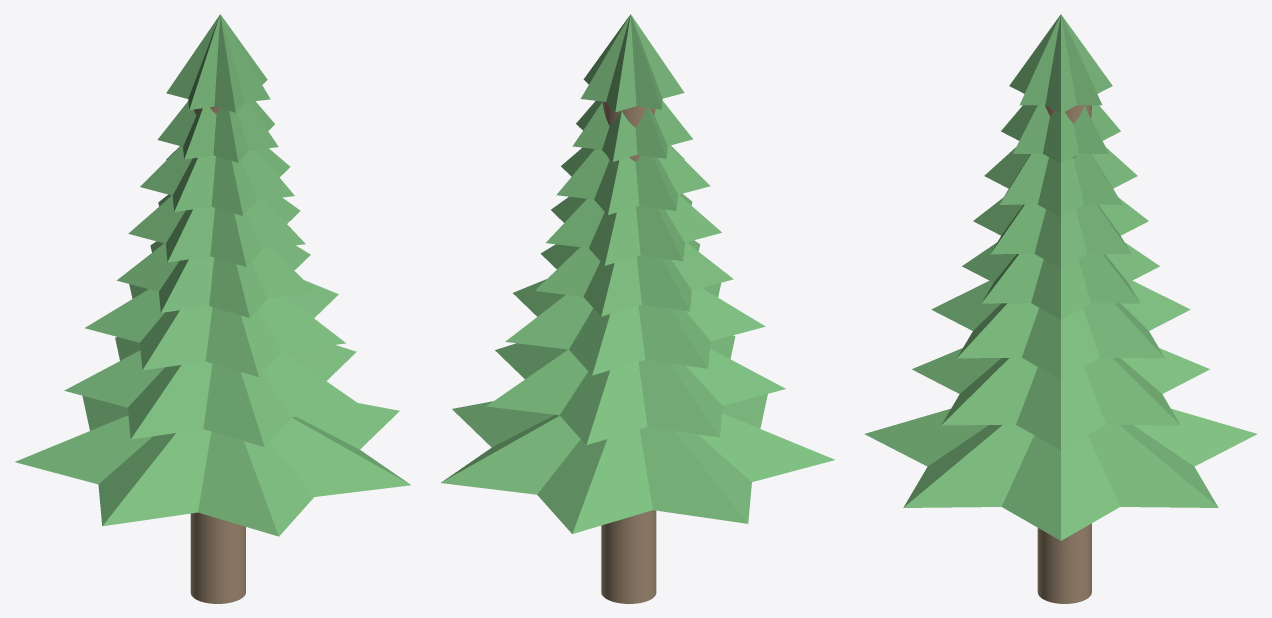
Rendered from tree_1.glb.
3 views of the same model, side by side, from view 1: azimuth 30°, elevation 25°; view 2: azimuth 150°, elevation 25°; view 3: azimuth 270°, elevation 25° (orthographic).
Parts seen in each view (by area): view 1: Mesh_Mesh_head_geo.001_lambert2SG.001; view 2: Mesh_Mesh_head_geo.001_lambert2SG.001; view 3: Mesh_Mesh_head_geo.001_lambert2SG.001.
Boxes of the visible parts, <box> form: Mesh_Mesh_head_geo.001_lambert2SG.001: <box>15,14,410,603</box>; Mesh_Mesh_head_geo.001_lambert2SG.001: <box>441,14,834,603</box>; Mesh_Mesh_head_geo.001_lambert2SG.001: <box>864,14,1257,603</box>.
Size of the model in its own units: 28 by 45.39 by 28.
